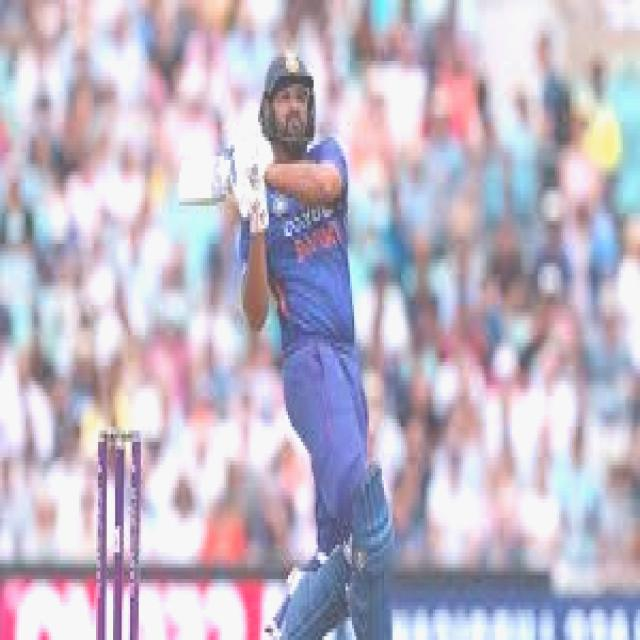toe: (172, 158, 191, 215)
